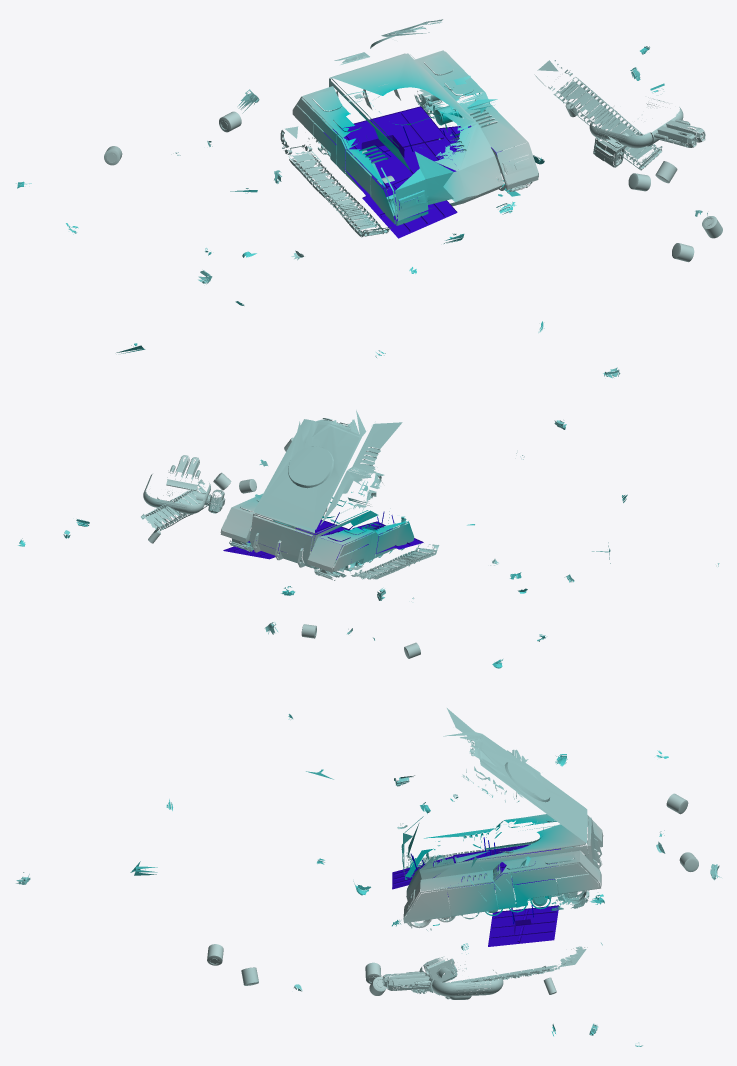
The model's file is legion_wreck.glb.
3 views of the same model, one above another, from view 1: azimuth 30°, elevation 25°; view 2: azimuth 150°, elevation 25°; view 3: azimuth 270°, elevation 25° (orthographic). The views are drawn at different scales.
Parts seen in each view (by area): view 1: legion, frame (×2), legion_plate (×2), wrecked_track_r, wrecked_track_l, Legion_turret, gun; view 2: legion_plate, legion, Legion_turret, wrecked_track_l, wrecked_track_r, gun; view 3: legion, legion_plate, frame, Legion_turret, wrecked_track_l, gun.
Part boxes in pixels (left/top/right/bottom): legion: left=292, top=50, right=538, bottom=225; frame (×2): left=323, top=106, right=457, bottom=238; legion_plate (×2): left=334, top=19, right=453, bottom=220; wrecked_track_r: left=280, top=126, right=391, bottom=237; wrecked_track_l: left=534, top=60, right=662, bottom=170; Legion_turret: left=589, top=97, right=683, bottom=167; gun: left=644, top=114, right=705, bottom=147; legion_plate: left=253, top=410, right=402, bottom=529; legion: left=220, top=492, right=414, bottom=580; Legion_turret: left=143, top=474, right=225, bottom=514; wrecked_track_l: left=141, top=479, right=218, bottom=532; wrecked_track_r: left=346, top=543, right=439, bottom=579; gun: left=167, top=455, right=200, bottom=482; legion: left=403, top=814, right=603, bottom=928; legion_plate: left=443, top=708, right=587, bottom=843; frame: left=488, top=905, right=558, bottom=946; Legion_turret: left=420, top=956, right=503, bottom=999; wrecked_track_l: left=409, top=946, right=587, bottom=993; gun: left=382, top=968, right=436, bottom=991.
Size of the model in its own units: 47.78 by 11.2 by 43.07.
